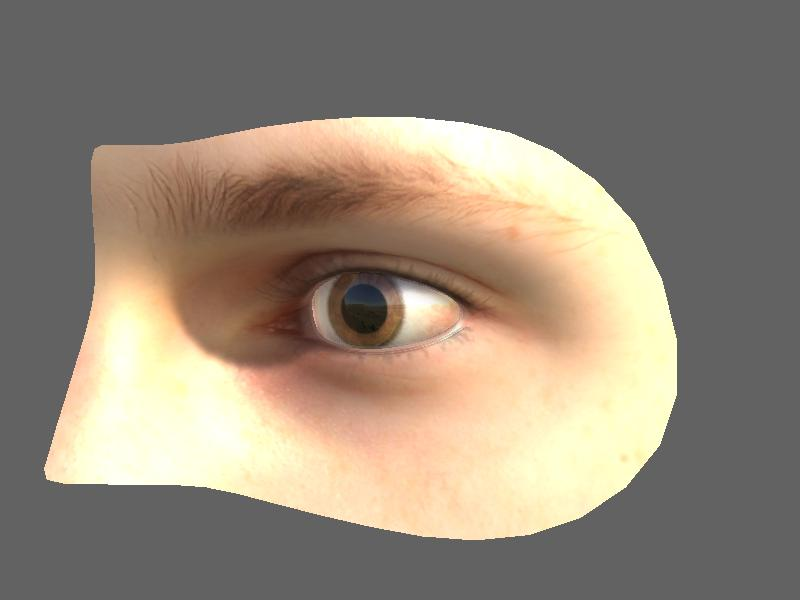iris: (324, 269, 412, 348)
